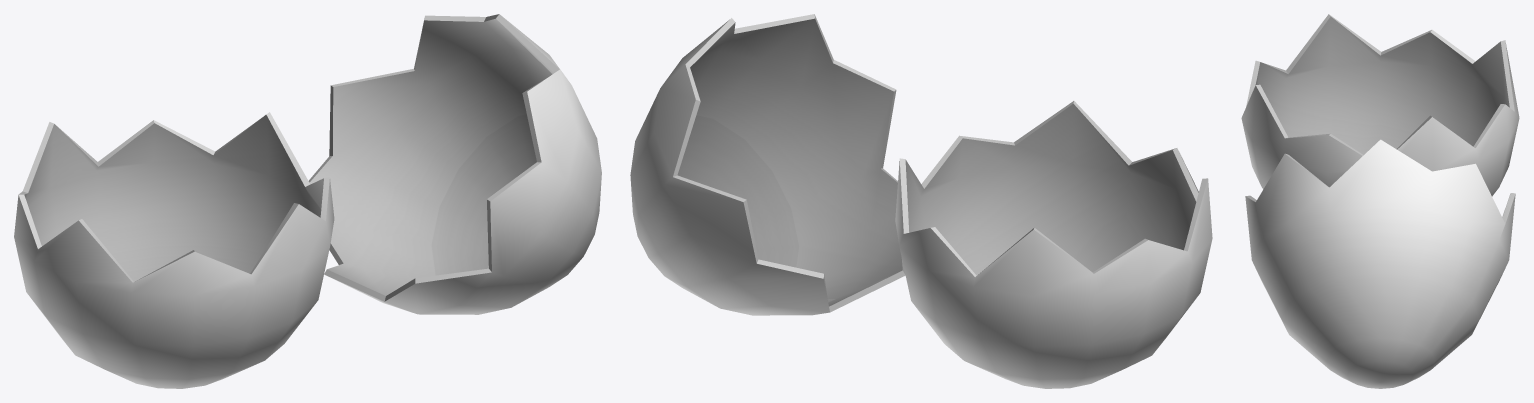
File: Egg Shells (Fixed).FBX
3 views of the same model, side by side, from view 1: azimuth 30°, elevation 25°; view 2: azimuth 150°, elevation 25°; view 3: azimuth 270°, elevation 25° (orthographic). The views are drawn at different scales.
Parts seen in each view (by area): view 1: Egg Shells; view 2: Egg Shells; view 3: Egg Shells.
Part boxes in pixels (<box>): Egg Shells: <box>14,14,601,388</box>; Egg Shells: <box>630,14,1212,388</box>; Egg Shells: <box>1241,14,1519,388</box>.
Bounding box in the file's own units: 272 × 132 × 138.
1 material, 1 textured.
